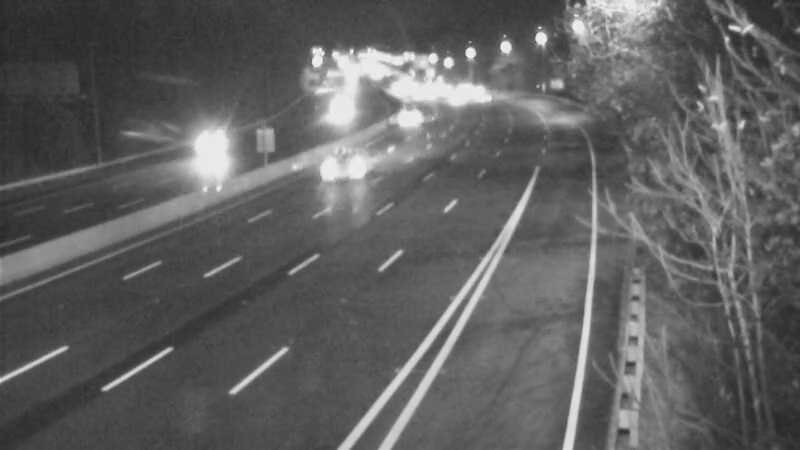vehicle: (302, 127, 382, 207), (388, 85, 438, 135), (184, 115, 234, 165)
